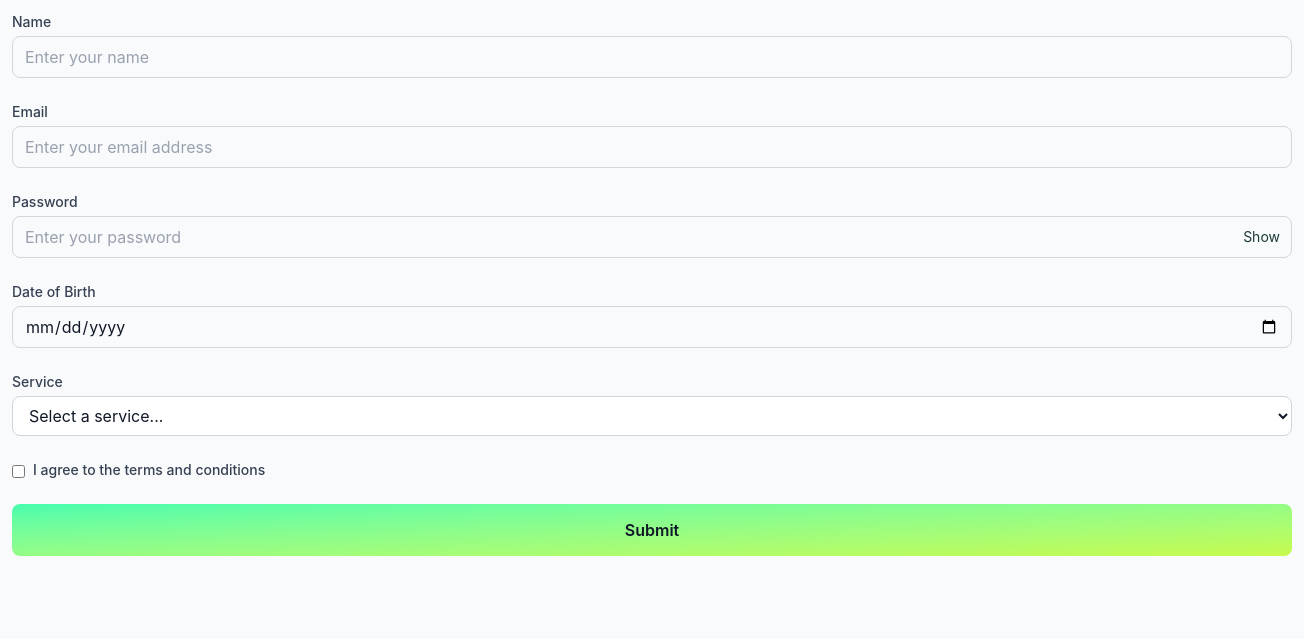
Test: ServiceForm › renders the other service field when Other is selected
Select "Other" in the dropdown labelled "Service": (652, 416) [12,396,1292,436]
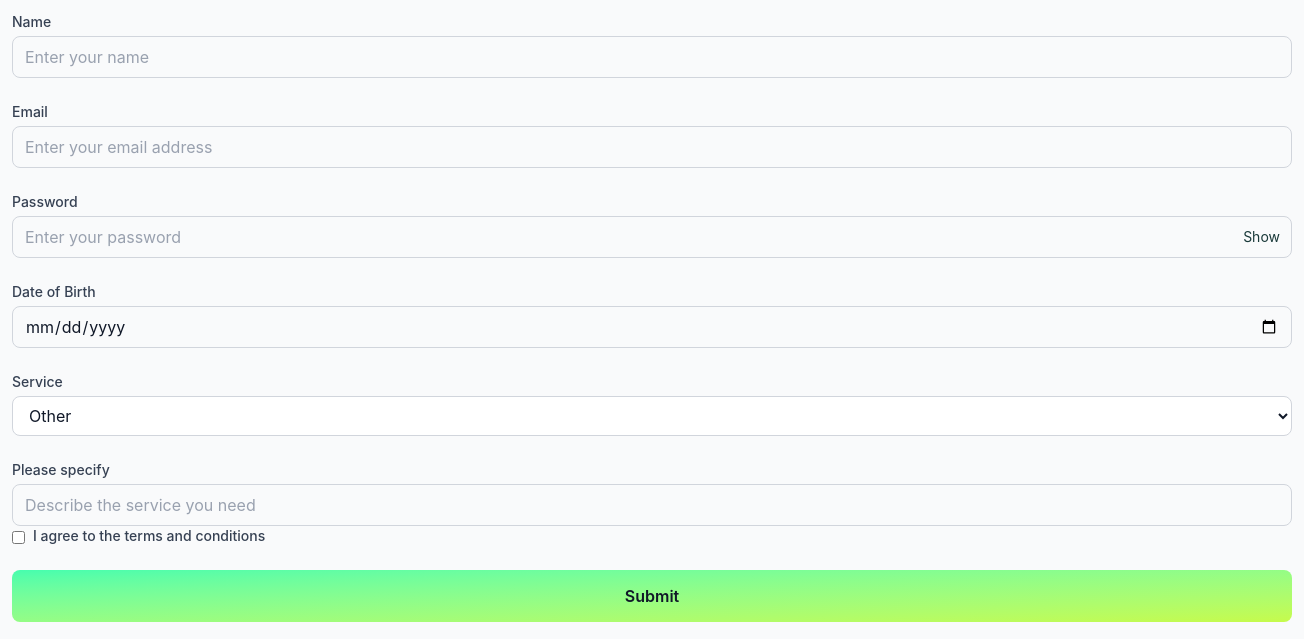
Expected: the field with test id "other-service-input" is shown, [12,484,1292,526]
